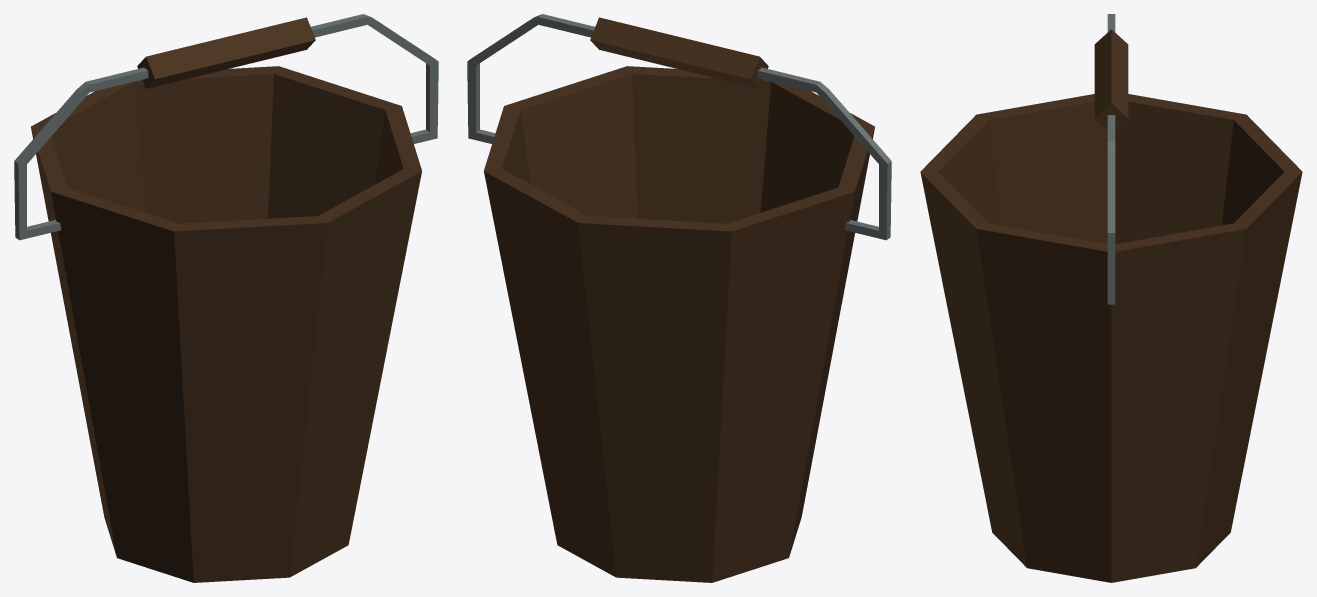
File: Bucket_1_Dark_Brown.fbx
3 renders of one model, left to right at view 1: azimuth 30°, elevation 25°; view 2: azimuth 150°, elevation 25°; view 3: azimuth 270°, elevation 25°, orthographic. The views are drawn at different scales.
Parts seen in each view (by area): view 1: Bucket_1_Dark_Brown; view 2: Bucket_1_Dark_Brown; view 3: Bucket_1_Dark_Brown.
Boxes of the visible parts, left/top/right/bottom form: Bucket_1_Dark_Brown: left=14, top=14, right=438, bottom=582; Bucket_1_Dark_Brown: left=467, top=14, right=891, bottom=582; Bucket_1_Dark_Brown: left=920, top=14, right=1302, bottom=582.
Bounding box in the file's own units: 57.5 × 64.62 × 48.
